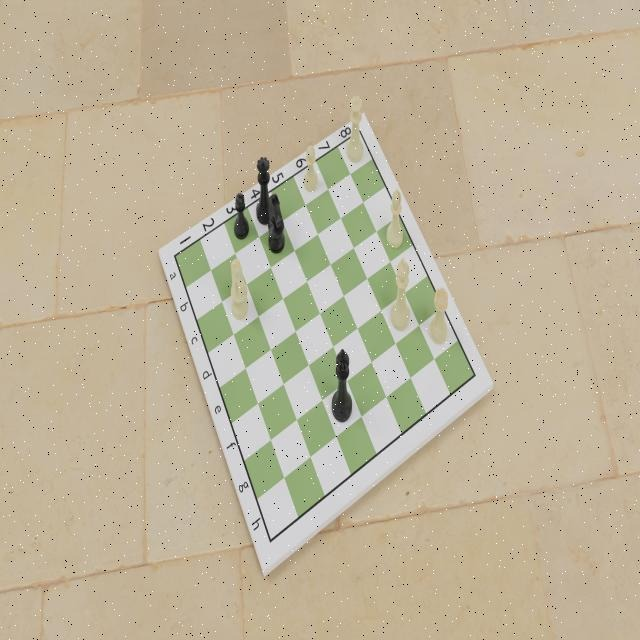black-king: (330, 345, 354, 425)
black-knight: (267, 192, 287, 255)
black-pawn: (232, 191, 250, 241)
black-queen: (254, 154, 274, 224)
white-bishop: (384, 187, 404, 251)
white-king: (388, 255, 411, 332)
white-knight: (230, 258, 250, 322)
white-pawn: (302, 143, 321, 193)
white-queen: (347, 93, 365, 163)
white-rook: (429, 285, 451, 346)
